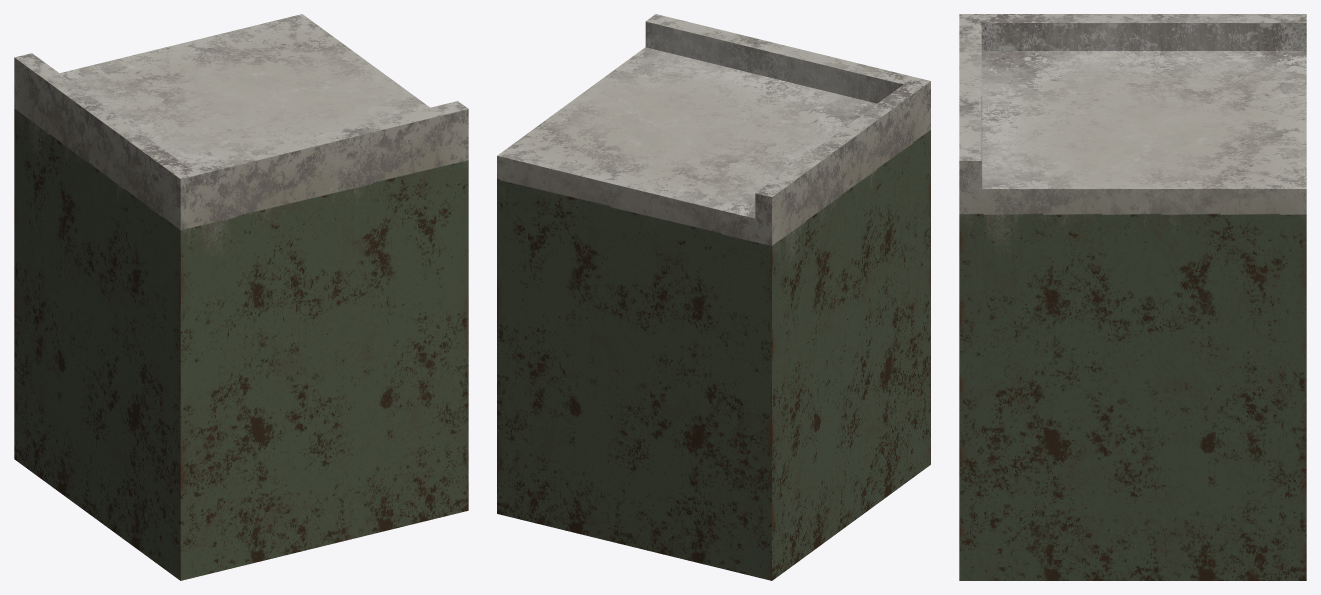
The model's file is CabinetKitchenCorner.fbx.
3 renders of one model, left to right at view 1: azimuth 30°, elevation 25°; view 2: azimuth 150°, elevation 25°; view 3: azimuth 270°, elevation 25°, orthographic. The views are drawn at different scales.
Visible parts, largest first — view 1: CabinetKitchenCorner1; view 2: CabinetKitchenCorner1; view 3: CabinetKitchenCorner1.
Boxes of the visible parts, x1=… form: CabinetKitchenCorner1: x1=14, y1=14, x2=468, y2=580; CabinetKitchenCorner1: x1=497, y1=14, x2=930, y2=580; CabinetKitchenCorner1: x1=959, y1=14, x2=1306, y2=580.
Bounding box in the file's own units: 0.6683 × 0.891 × 0.6683.
Materials: 1 (1 with a texture image).
